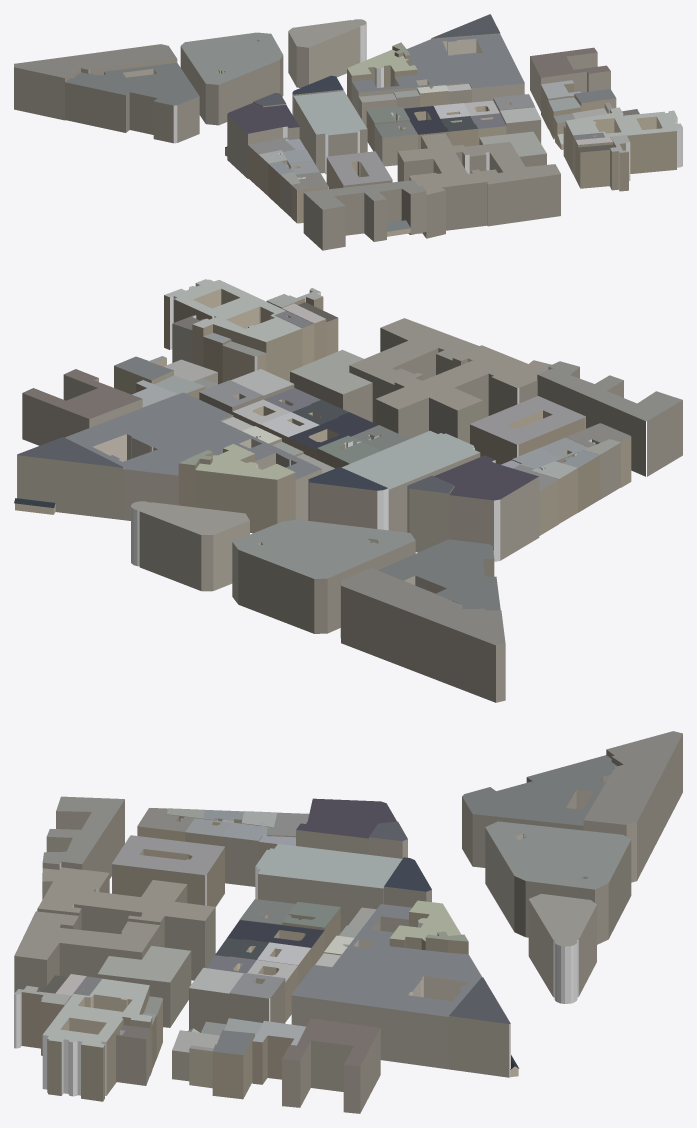
The picture shows the model from 3 angles, top to bottom: view 1: azimuth 30°, elevation 25°; view 2: azimuth 150°, elevation 25°; view 3: azimuth 270°, elevation 25°; orthographic projection. The views are drawn at different scales.
Visible parts, largest first — view 1: tuile; view 2: tuile; view 3: tuile.
Boxes of the visible parts, x1=… form: tuile: x1=14, y1=14, x2=682, y2=250; tuile: x1=14, y1=279, x2=682, y2=702; tuile: x1=14, y1=731, x2=682, y2=1113.
Bounding box in the file's own units: 311 × 35.02 × 276.
